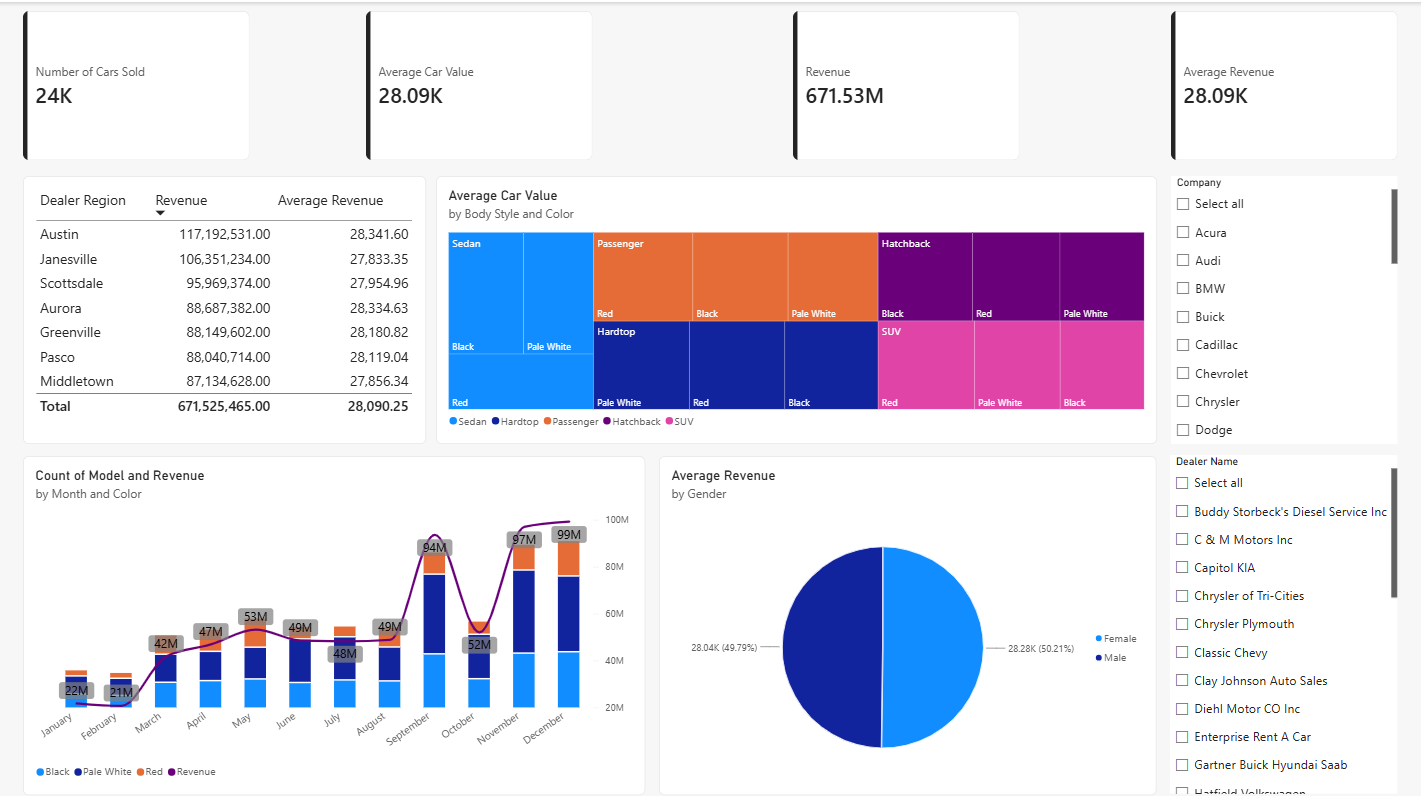

The page's visual inventory and layout, read from the dashboard file:
{"tool":"powerbi","page":{"name":"Page 1","canvas":[1920,1080],"ordinal":0},"visuals":[{"type":"tableEx","fields":{"Values":["Dim Location.Dealer Region","Fact Car Sales.Total Sales","Fact Car Sales.Average Revenue"]},"box":[33.3,234.3,542.7,361.3],"z":0},{"type":"slicer","fields":{"Values":["Dim Cars.Company"]},"box":[1579.8,234.3,305.4,361.3],"z":1000},{"type":"lineStackedColumnComboChart","fields":{"Y2":["Fact Car Sales.Revenue"],"Y":["CountNonNull(Dim Cars.Model)"],"Series":["Dim Cars.Color"],"Category":["Dim Dates.Date.Variation.Date Hierarchy.Month"]},"box":[33.3,610.8,837.5,456.6],"z":2000},{"type":"pieChart","fields":{"Category":["Fact Car Sales.Gender"],"Y":["Fact Car Sales.Average Revenue"]},"box":[890.5,610.8,669.7,456.6],"z":3000},{"type":"treemap","fields":{"Group":["Dim Cars.Body Style"],"Values":["Fact Car Sales.Average Order Value"],"Details":["Dim Cars.Color"]},"box":[589.6,234.3,970.6,361.3],"z":4000},{"type":"cardVisual","fields":{"Data":["Fact Car Sales.Number of Cars Sold"]},"box":[33.3,12.1,305,201],"z":5000},{"type":"cardVisual","fields":{"Data":["Fact Car Sales.Average Revenue"]},"box":[1579.8,12.1,305,201],"z":6000},{"type":"cardVisual","fields":{"Data":["Fact Car Sales.Average Order Value"]},"box":[495.9,12.1,305,201],"z":7000},{"type":"cardVisual","fields":{"Data":["Fact Car Sales.Revenue"]},"box":[1070.4,12.1,305,201],"z":8000},{"type":"slicer","fields":{"Values":["Dim Location.Dealer Name"]},"box":[1578.8,610.5,305.9,456.2],"z":9000}]}

Visuals, with their boxes in screenshot pixels (x1, y1, x2, y2), scaled from the page's 1920x1080 canvas onto the 1421x796 screenshot:
tableEx - Dim Location.Dealer Region x Fact Car Sales.Total Sales: bbox=[25, 173, 426, 439]
slicer - Dim Cars.Company: bbox=[1169, 173, 1395, 439]
lineStackedColumnComboChart - Fact Car Sales.Revenue x CountNonNull(Dim Cars.Model): bbox=[25, 450, 644, 787]
pieChart - Fact Car Sales.Gender x Fact Car Sales.Average Revenue: bbox=[659, 450, 1155, 787]
treemap - Dim Cars.Body Style x Fact Car Sales.Average Order Value: bbox=[436, 173, 1155, 439]
cardVisual - Fact Car Sales.Number of Cars Sold: bbox=[25, 9, 250, 157]
cardVisual - Fact Car Sales.Average Revenue: bbox=[1169, 9, 1395, 157]
cardVisual - Fact Car Sales.Average Order Value: bbox=[367, 9, 593, 157]
cardVisual - Fact Car Sales.Revenue: bbox=[792, 9, 1018, 157]
slicer - Dim Location.Dealer Name: bbox=[1168, 450, 1395, 786]
